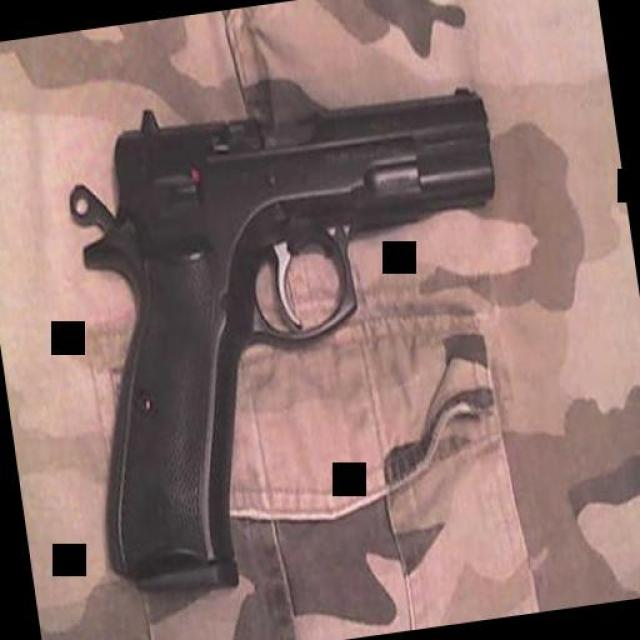gun: (41, 61, 548, 595)
